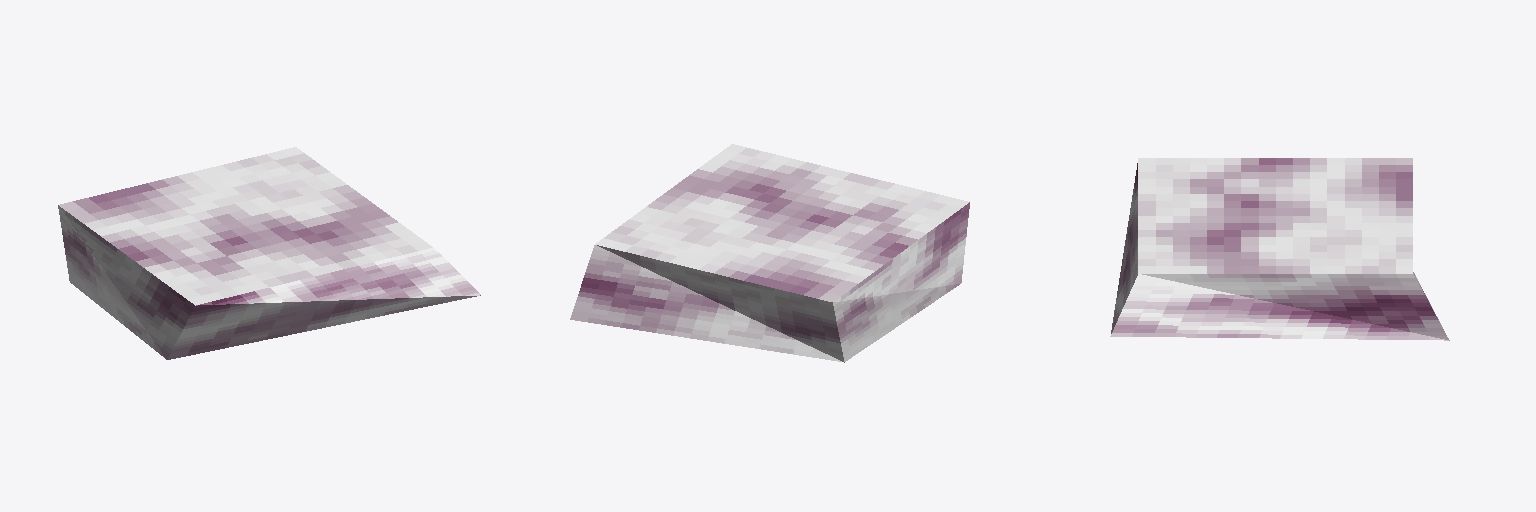
3 renders of one model, left to right at view 1: azimuth 30°, elevation 25°; view 2: azimuth 150°, elevation 25°; view 3: azimuth 270°, elevation 25°, orthographic.
Visible parts, largest first — view 1: Cube; view 2: Cube; view 3: Cube.
Part boxes in pixels (left/top/right/bottom): Cube: left=58, top=147, right=480, bottom=359; Cube: left=570, top=144, right=969, bottom=362; Cube: left=1110, top=158, right=1449, bottom=340.
Bounding box in the file's own units: 3.2 × 0.7445 × 3.34.
Materials: 1 (1 with a texture image).